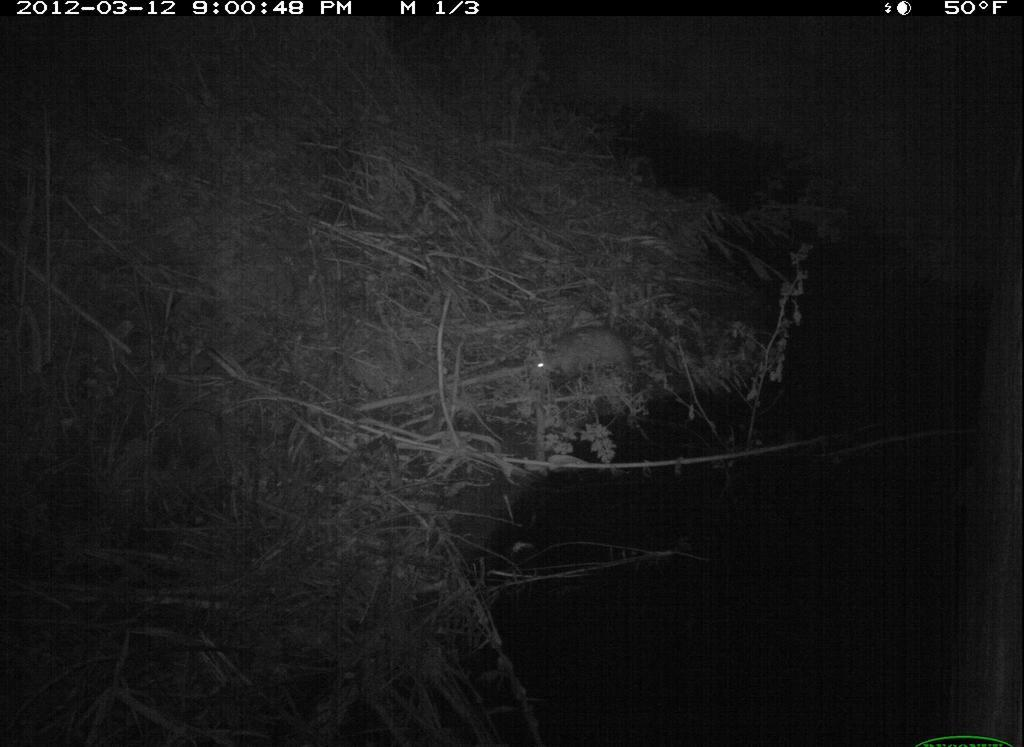opossum: (515, 314, 657, 402)
